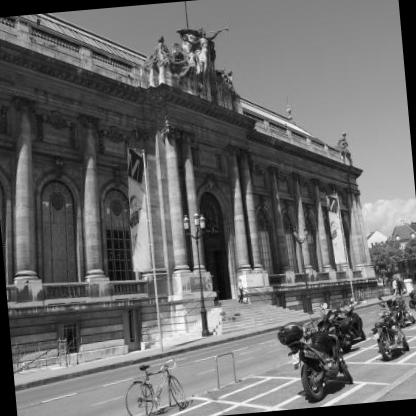moto: (277, 309, 367, 410), (372, 303, 416, 378)
